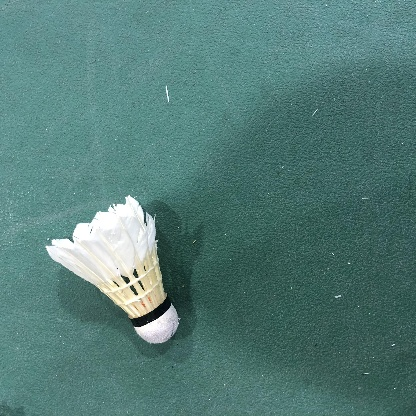ball_single: (45, 195, 178, 343)
